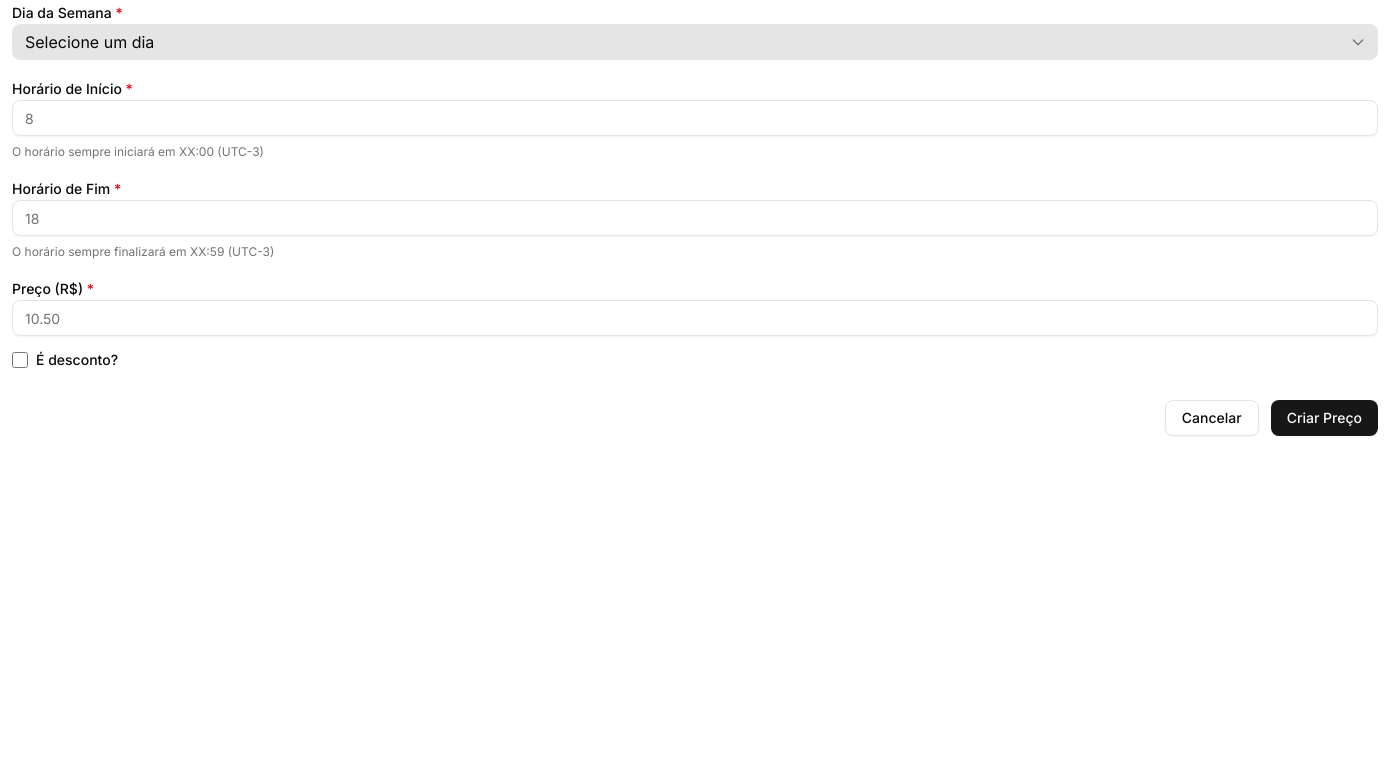
Test: priceForm › validation › should show validation error when start_hour is out of range
Select "Segunda-feira" in the dropdown labelled "Dia da Semana *". click: (695, 42)
box: top-left (12, 24), bottom-right (1378, 60)
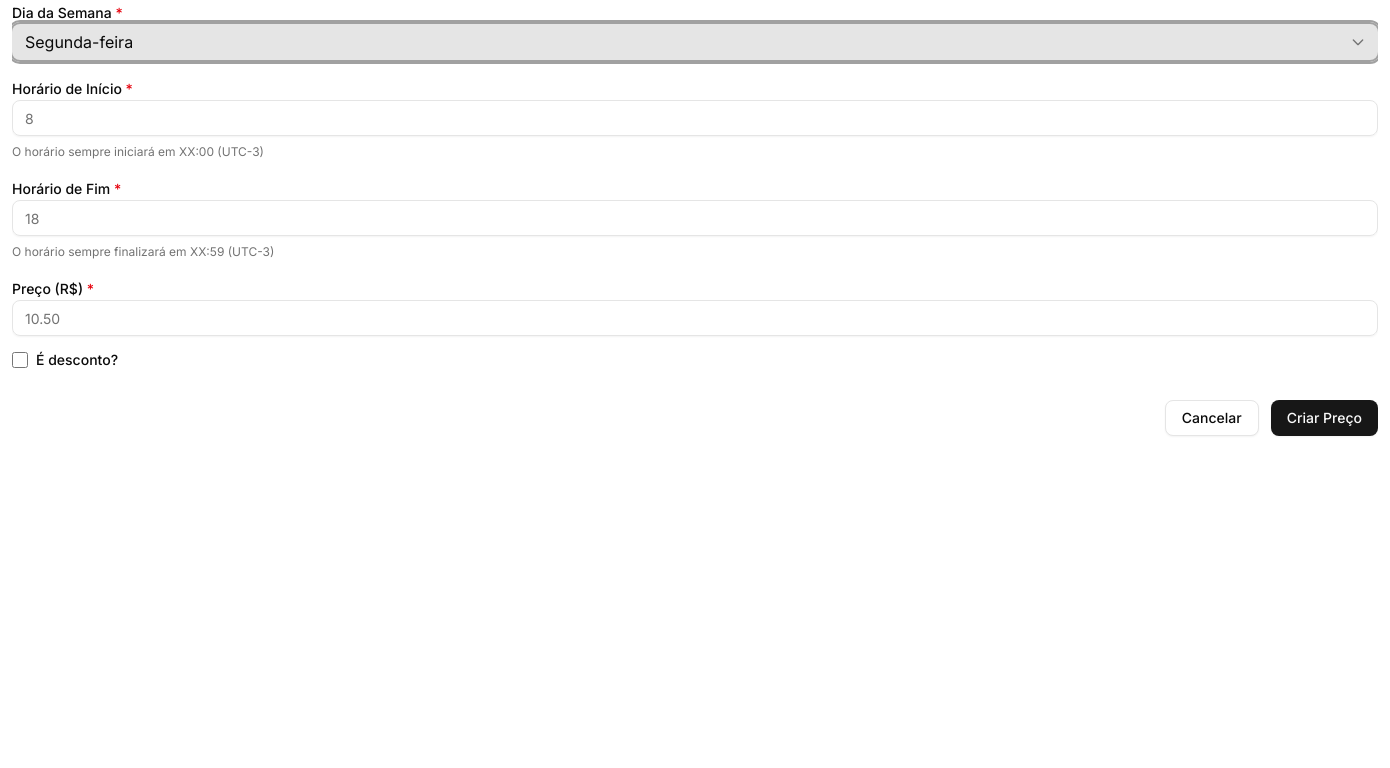
Type "25" into the number field labelled "Horário de Início *". click: (695, 118)
box: top-left (12, 100), bottom-right (1378, 136)
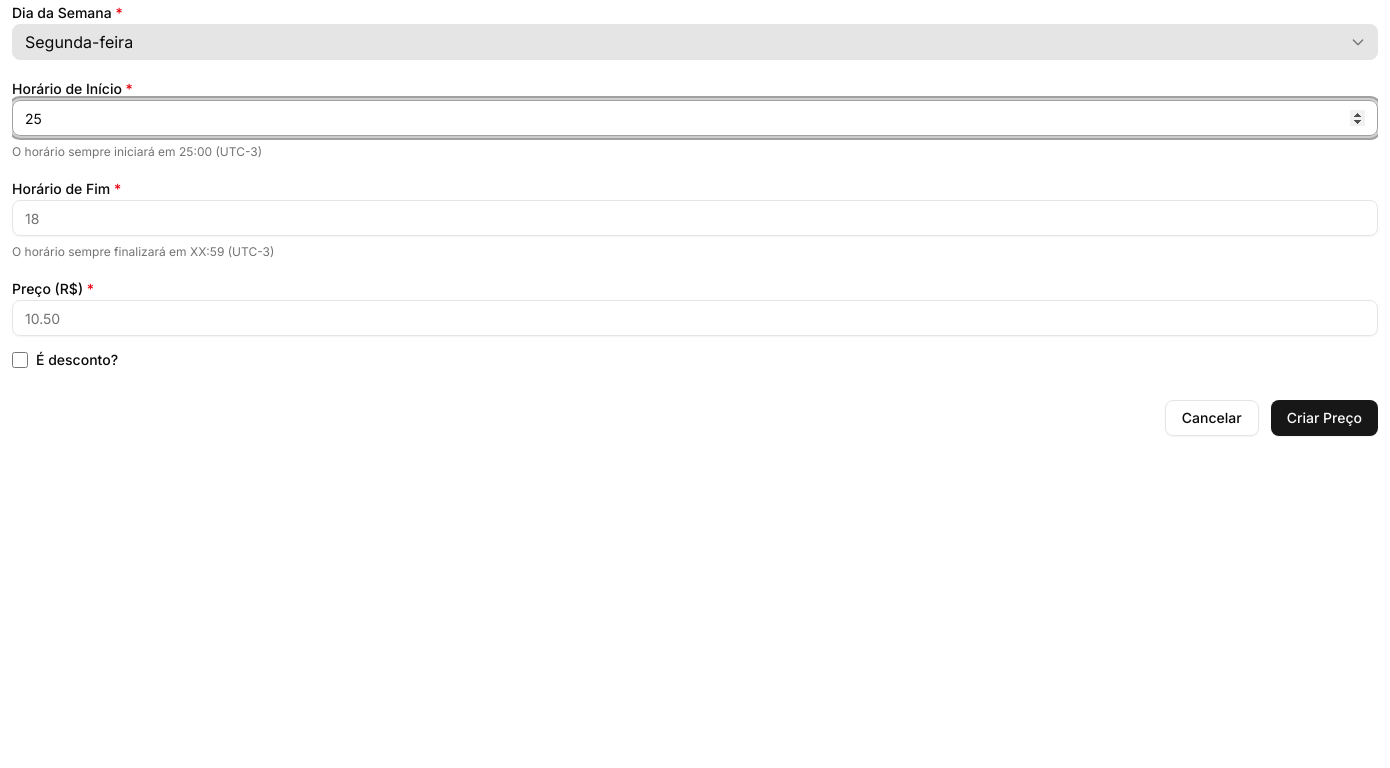
Click the button "Criar Preço". click: click(1324, 418)
box: top-left (1271, 400), bottom-right (1378, 436)
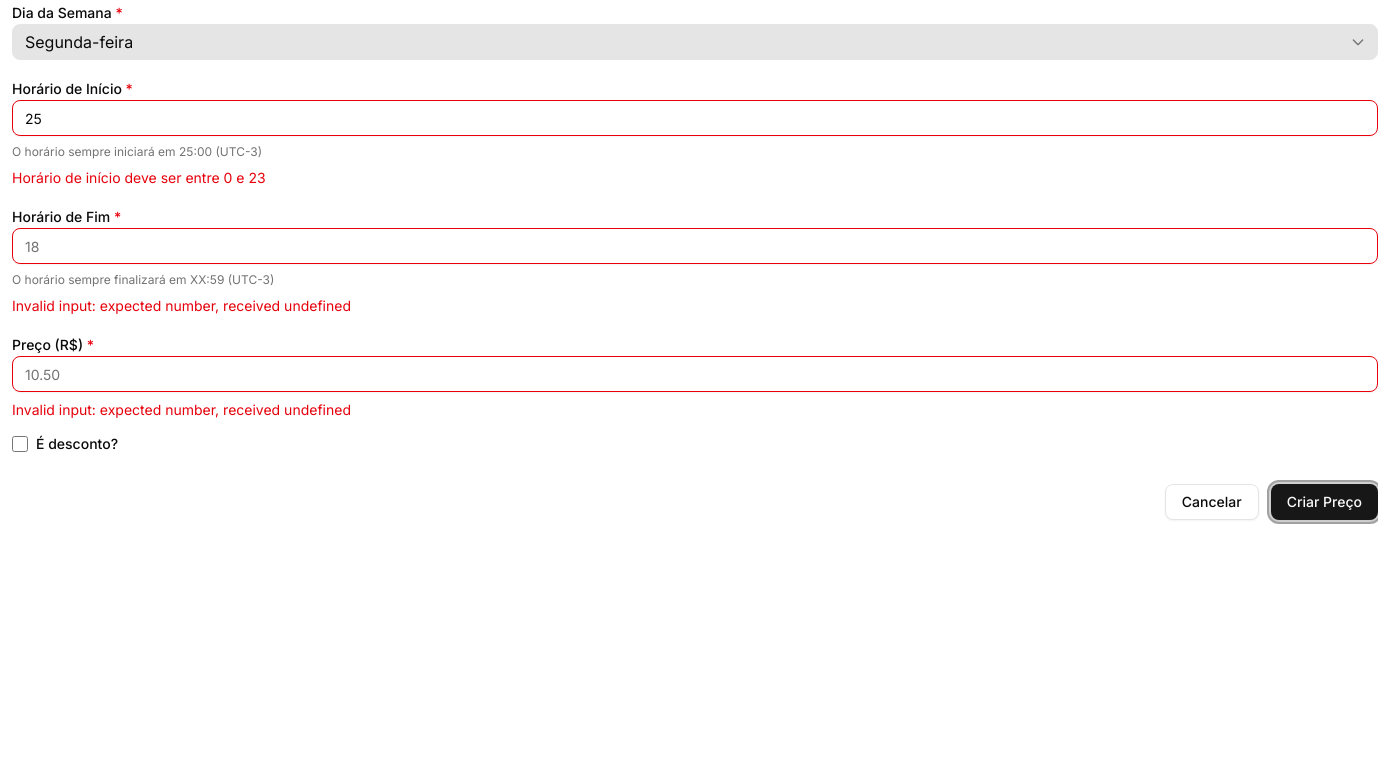
Check: the text "Horário de início deve ser entre 0 e 23" is shown, box top-left (12, 169), bottom-right (266, 186)
